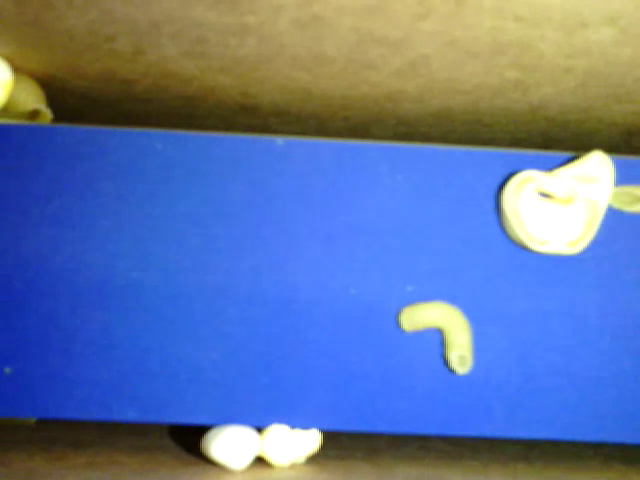elbow: (399, 299, 474, 377)
shell: (2, 71, 55, 128)
tortellini: (495, 146, 620, 256)
